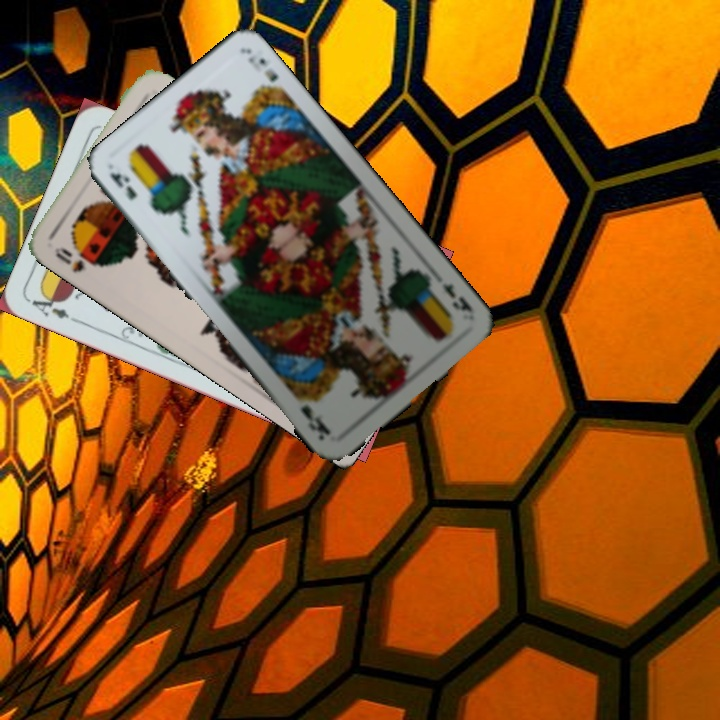EA: (27, 289, 82, 326)
EK: (437, 278, 477, 318), (105, 168, 140, 203)
SO: (50, 243, 87, 276)
